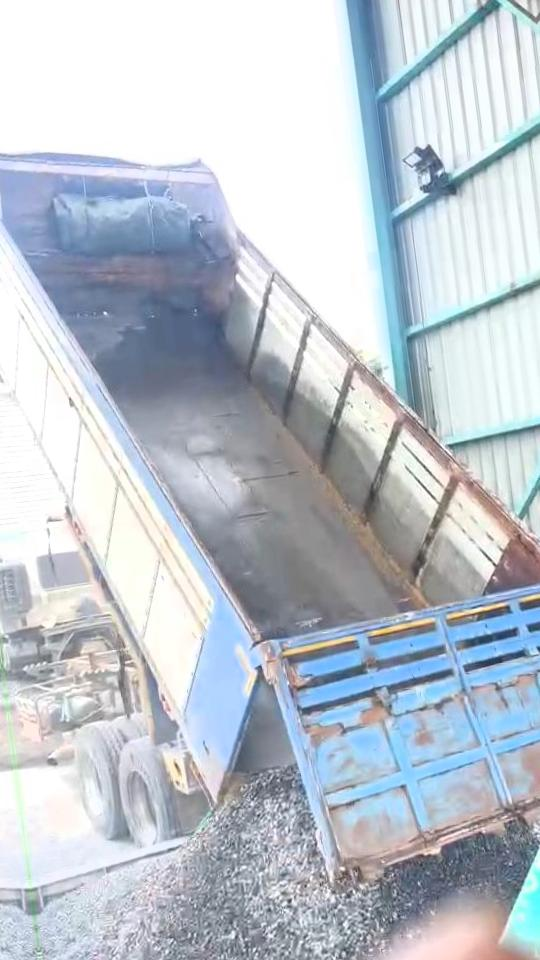gravel: (38, 771, 535, 960)
